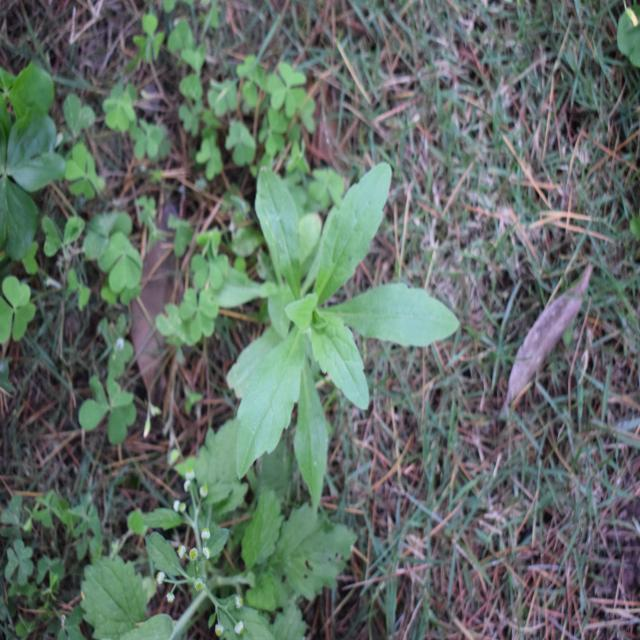horseweed: (220, 146, 435, 465)
